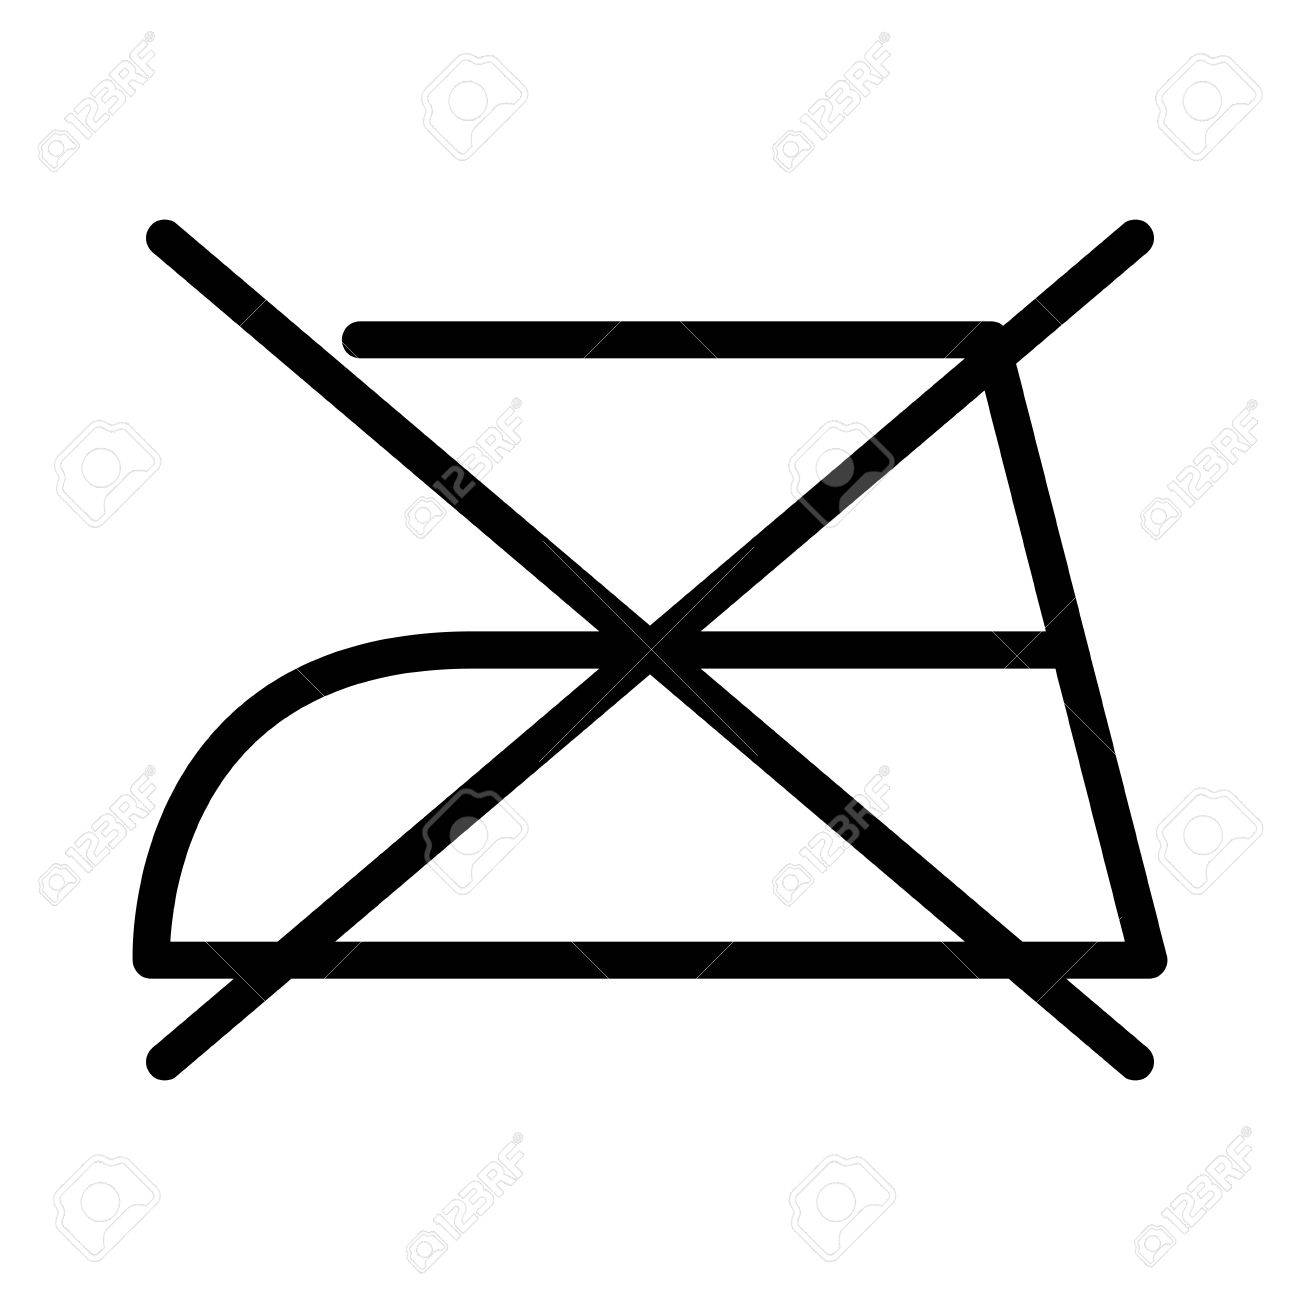do_not_iron: (130, 212, 1170, 1085)
